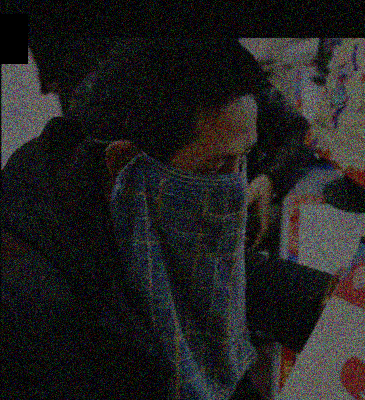with_mask: (137, 138, 259, 263)
